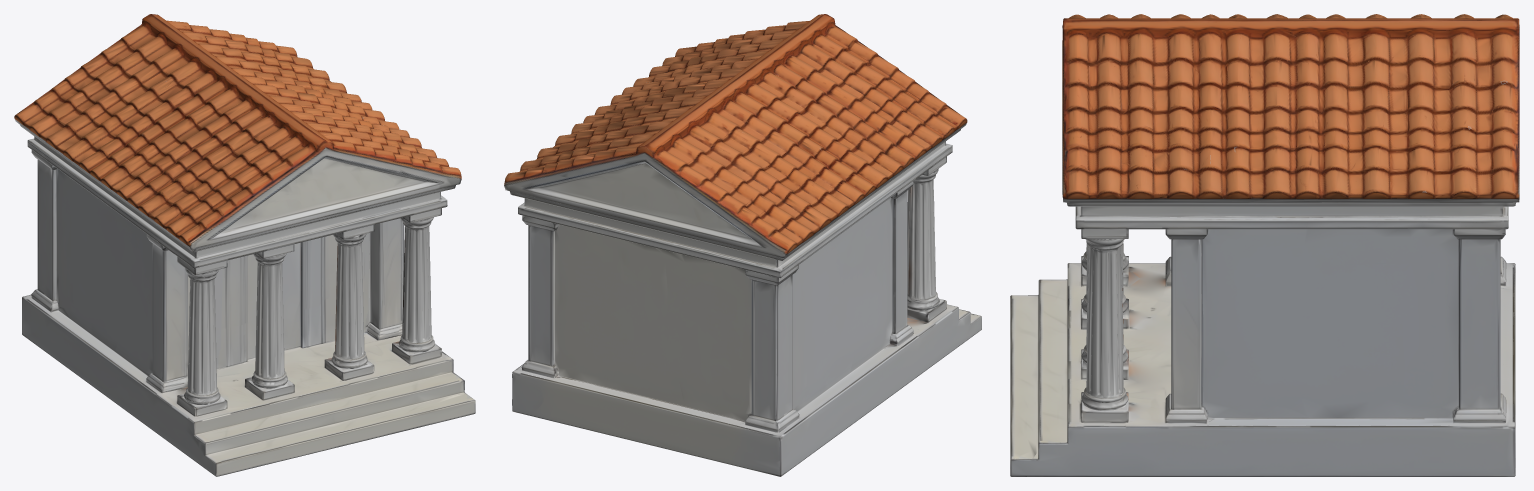
The model's file is prop_temple.glb.
The picture shows the model from 3 angles, left to right: view 1: azimuth 30°, elevation 25°; view 2: azimuth 150°, elevation 25°; view 3: azimuth 270°, elevation 25°; orthographic projection. The views are drawn at different scales.
Visible parts, largest first — view 1: material; view 2: material; view 3: material.
Part boxes in pixels (x1,y1,x2,y2): material: (14, 14, 475, 476); material: (504, 14, 981, 476); material: (1010, 14, 1519, 476).
Bounding box in the file's own units: 0.6555 × 0.653 × 0.8029.
Materials: 1 (1 with a texture image).
